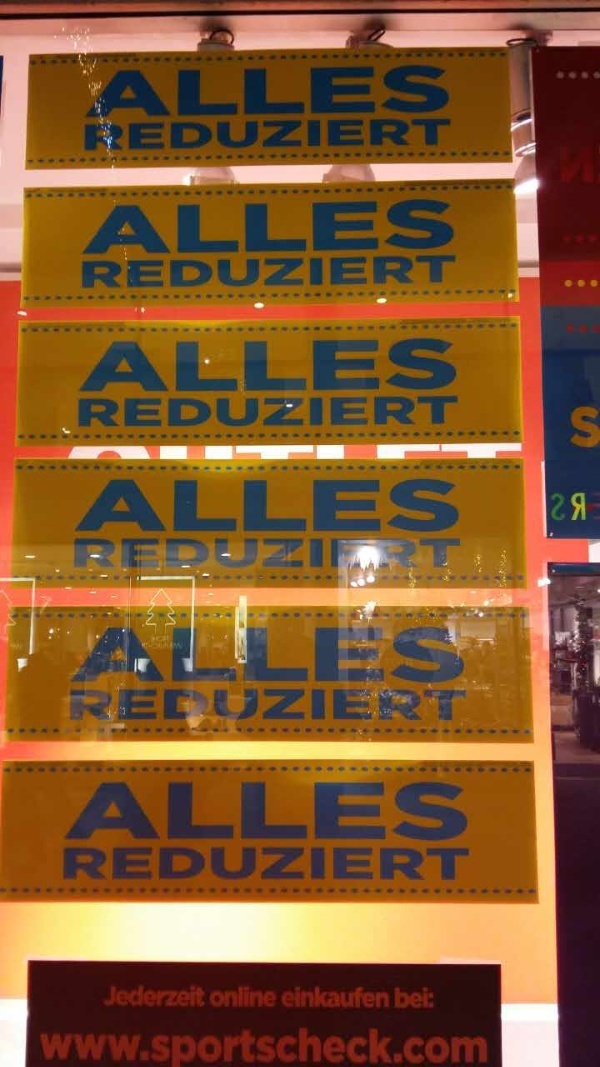text: (113, 782, 128, 846), (129, 782, 144, 846), (145, 782, 160, 846), (161, 782, 176, 846), (177, 782, 192, 846), (193, 782, 208, 846), (209, 782, 224, 846), (225, 782, 240, 846), (241, 782, 256, 846), (257, 782, 272, 846), (273, 782, 288, 846), (289, 782, 304, 846), (305, 782, 320, 846), (321, 782, 336, 846), (337, 782, 352, 846), (353, 782, 368, 846), (369, 782, 384, 846), (385, 782, 400, 846), (401, 782, 416, 846), (417, 782, 432, 846), (433, 782, 448, 846), (449, 782, 464, 846), (113, 196, 128, 259), (129, 196, 144, 259), (145, 196, 160, 259), (161, 196, 176, 259), (177, 196, 192, 259), (193, 196, 208, 259), (209, 196, 224, 259), (225, 196, 240, 259), (241, 196, 256, 259), (257, 196, 272, 259), (273, 196, 288, 259), (289, 196, 304, 259), (305, 196, 320, 259), (321, 196, 336, 259), (337, 196, 352, 259), (353, 196, 368, 259), (369, 196, 384, 259), (385, 196, 400, 259), (401, 196, 416, 259), (417, 196, 432, 259), (433, 196, 448, 259), (113, 625, 128, 687), (129, 625, 144, 687), (145, 625, 160, 687), (161, 625, 176, 687), (177, 625, 192, 687), (193, 625, 208, 687), (209, 625, 224, 687), (225, 625, 240, 687), (241, 625, 256, 687), (257, 625, 272, 687), (273, 625, 288, 687), (289, 625, 304, 687), (305, 625, 320, 687), (321, 625, 336, 687), (337, 625, 352, 687), (353, 625, 368, 687), (369, 625, 384, 687), (385, 625, 400, 687), (401, 625, 416, 687), (417, 625, 432, 687), (433, 625, 448, 687), (449, 625, 464, 687), (113, 334, 128, 394), (129, 334, 144, 394), (145, 334, 160, 394), (161, 334, 176, 394), (177, 334, 192, 394), (193, 334, 208, 394), (209, 334, 224, 394), (225, 334, 240, 394), (241, 334, 256, 394), (257, 334, 272, 394), (273, 334, 288, 394), (289, 334, 304, 394), (305, 334, 320, 394), (321, 334, 336, 394), (337, 334, 352, 394), (353, 334, 368, 394), (369, 334, 384, 394), (385, 334, 400, 394), (401, 334, 416, 394), (417, 334, 432, 394), (433, 334, 448, 394), (113, 477, 128, 537), (129, 477, 144, 537), (145, 477, 160, 537), (161, 477, 176, 537), (177, 477, 192, 537), (193, 477, 208, 537), (209, 477, 224, 537), (225, 477, 240, 537), (241, 477, 256, 537), (257, 477, 272, 537), (273, 477, 288, 537), (289, 477, 304, 537), (305, 477, 320, 537), (321, 477, 336, 537), (337, 477, 352, 537), (353, 477, 368, 537), (369, 477, 384, 537), (385, 477, 400, 537), (401, 477, 416, 537), (417, 477, 432, 537), (433, 477, 448, 537), (129, 65, 144, 121), (145, 65, 160, 121), (161, 65, 176, 121), (177, 65, 192, 121), (193, 65, 208, 121), (209, 65, 224, 121), (225, 65, 240, 121), (241, 65, 256, 121), (257, 65, 272, 121), (273, 65, 288, 121), (289, 65, 304, 121), (305, 65, 320, 121), (321, 65, 336, 121), (337, 65, 352, 121), (353, 65, 368, 121), (369, 65, 384, 121), (385, 65, 400, 121), (401, 65, 416, 121), (417, 65, 432, 121), (433, 65, 448, 121), (99, 782, 112, 846), (114, 65, 128, 121), (577, 405, 592, 455), (449, 477, 461, 537), (97, 255, 112, 296), (113, 255, 128, 296), (129, 255, 144, 296), (145, 255, 160, 296), (161, 255, 176, 296), (177, 255, 192, 296), (193, 255, 208, 296), (209, 255, 224, 296), (225, 255, 240, 296), (241, 255, 256, 296), (257, 255, 272, 296), (273, 255, 288, 296), (289, 255, 304, 296), (305, 255, 320, 296), (321, 255, 336, 296), (337, 255, 352, 296), (353, 255, 368, 296), (369, 255, 384, 296), (385, 255, 400, 296), (401, 255, 416, 296), (417, 255, 432, 296), (433, 255, 448, 296), (81, 687, 96, 727), (97, 687, 112, 727), (113, 687, 128, 727), (129, 687, 144, 727), (145, 687, 160, 727), (161, 687, 176, 727), (177, 687, 192, 727), (193, 687, 208, 727), (209, 687, 224, 727), (225, 687, 240, 727), (241, 687, 256, 727), (257, 687, 272, 727), (273, 687, 288, 727), (289, 687, 304, 727), (305, 687, 320, 727), (321, 687, 336, 727), (337, 687, 352, 727), (353, 687, 368, 727), (369, 687, 384, 727), (385, 687, 400, 727), (401, 687, 416, 727), (417, 687, 432, 727), (433, 687, 448, 727), (449, 687, 464, 727), (81, 394, 96, 434), (97, 394, 112, 434), (113, 394, 128, 434), (129, 394, 144, 434), (145, 394, 160, 434), (161, 394, 176, 434), (177, 394, 192, 434), (193, 394, 208, 434), (209, 394, 224, 434), (225, 394, 240, 434), (241, 394, 256, 434), (257, 394, 272, 434), (273, 394, 288, 434), (289, 394, 304, 434), (305, 394, 320, 434), (321, 394, 336, 434), (337, 394, 352, 434), (353, 394, 368, 434), (369, 394, 384, 434), (385, 394, 400, 434), (401, 394, 416, 434), (417, 394, 432, 434), (433, 394, 448, 434), (449, 334, 459, 394), (97, 117, 112, 156), (113, 117, 128, 156), (129, 117, 144, 156), (145, 117, 160, 156), (161, 117, 176, 156), (177, 117, 192, 156), (193, 117, 208, 156), (209, 117, 224, 156), (225, 117, 240, 156), (241, 117, 256, 156), (257, 117, 272, 156), (273, 117, 288, 156), (289, 117, 304, 156), (305, 117, 320, 156), (321, 117, 336, 156), (337, 117, 352, 156), (353, 117, 368, 156), (369, 117, 384, 156), (385, 117, 400, 156), (401, 117, 416, 156), (417, 117, 432, 156), (433, 117, 448, 156), (82, 255, 96, 296), (65, 848, 80, 886), (81, 848, 96, 886), (97, 848, 112, 886), (113, 848, 128, 886), (129, 848, 144, 886), (145, 848, 160, 886), (161, 848, 176, 886), (177, 848, 192, 886), (193, 848, 208, 886), (209, 848, 224, 886), (225, 848, 240, 886), (241, 848, 256, 886), (257, 848, 272, 886), (273, 848, 288, 886), (289, 848, 304, 886), (305, 848, 320, 886), (321, 848, 336, 886), (337, 848, 352, 886), (353, 848, 368, 886), (369, 848, 384, 886), (385, 848, 400, 886), (401, 848, 416, 886), (417, 848, 432, 886), (433, 848, 448, 886), (449, 848, 464, 886), (81, 537, 96, 575), (97, 537, 112, 575), (113, 537, 128, 575), (129, 537, 144, 575), (145, 537, 160, 575), (161, 537, 176, 575), (177, 537, 192, 575), (193, 537, 208, 575), (209, 537, 224, 575), (225, 537, 240, 575), (241, 537, 256, 575), (257, 537, 272, 575), (273, 537, 288, 575), (289, 537, 304, 575), (305, 537, 320, 575), (321, 537, 336, 575), (337, 537, 352, 575), (353, 537, 368, 575), (369, 537, 384, 575), (385, 537, 400, 575), (401, 537, 416, 575), (417, 537, 432, 575), (433, 537, 448, 575), (561, 490, 576, 527), (401, 983, 416, 1018), (417, 983, 432, 1018), (49, 1029, 64, 1064), (65, 1029, 80, 1064), (81, 1029, 96, 1064), (97, 1029, 112, 1064), (113, 1029, 128, 1064), (129, 1029, 144, 1064), (145, 1029, 160, 1064), (161, 1029, 176, 1064), (177, 1029, 192, 1064), (193, 1029, 208, 1064), (209, 1029, 224, 1064), (225, 1029, 240, 1064), (241, 1029, 256, 1064), (257, 1029, 272, 1064), (273, 1029, 288, 1064), (289, 1029, 304, 1064), (305, 1029, 320, 1064), (321, 1029, 336, 1064), (337, 1029, 352, 1064), (353, 1029, 368, 1064), (369, 1029, 384, 1064), (385, 1029, 400, 1064), (401, 1029, 416, 1064), (417, 1029, 432, 1064), (433, 1029, 448, 1064), (449, 1029, 464, 1064), (465, 1029, 480, 1064), (449, 537, 461, 575), (449, 196, 456, 259), (449, 394, 460, 434), (85, 117, 96, 156), (113, 984, 128, 1012), (129, 984, 144, 1012), (145, 984, 160, 1012), (161, 984, 176, 1012), (177, 984, 192, 1012), (225, 985, 240, 1012), (241, 985, 256, 1012), (257, 985, 272, 1012), (70, 687, 80, 727), (289, 987, 304, 1013), (305, 987, 320, 1013), (321, 987, 336, 1013), (337, 987, 352, 1013), (353, 987, 368, 1013), (369, 987, 384, 1013), (106, 625, 112, 687), (577, 490, 587, 527), (449, 255, 458, 296), (193, 984, 206, 1012), (106, 477, 112, 537), (211, 985, 224, 1012), (593, 405, 600, 455), (551, 490, 560, 527), (465, 782, 470, 846), (39, 1029, 48, 1064), (571, 405, 576, 455), (481, 1029, 488, 1064), (465, 848, 471, 886), (74, 537, 80, 575), (395, 983, 400, 1018), (106, 984, 112, 1012), (282, 987, 288, 1013), (385, 987, 391, 1013), (465, 625, 467, 687), (465, 687, 468, 727), (110, 334, 112, 394), (449, 65, 451, 121), (433, 983, 436, 1018), (273, 985, 276, 1012), (449, 117, 451, 156), (79, 394, 80, 434)
